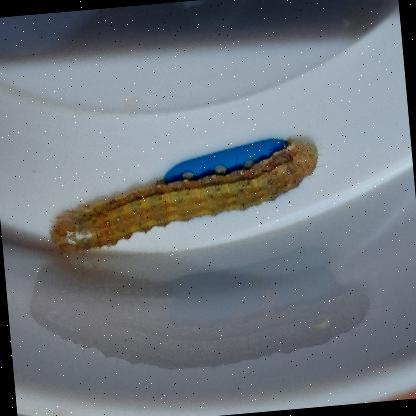Fall Armyworm Larvae: (40, 129, 333, 261)
